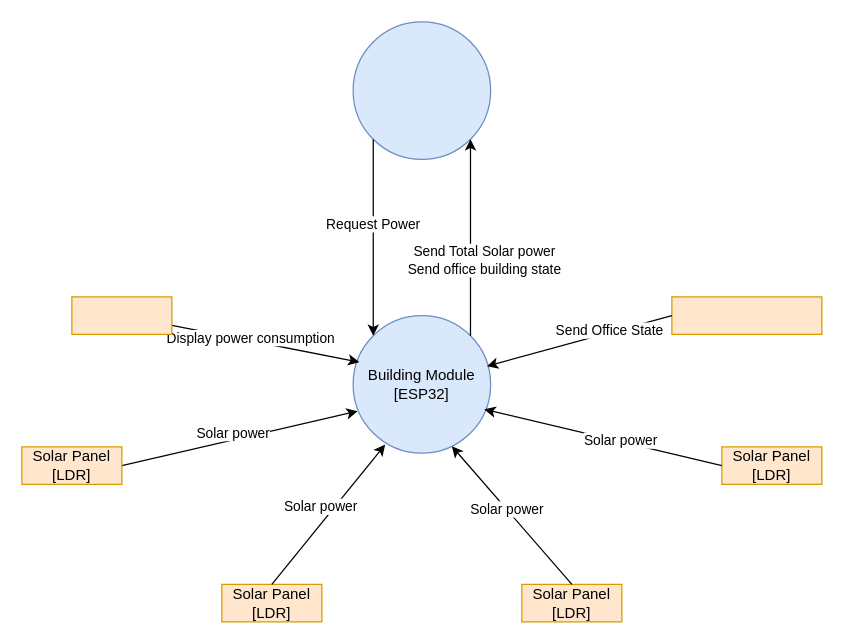
This 844x644 diagram has some shape labels left out. The shapes that lost their labels are listed below. From the top down, each one's box as (x1, y1, x2, y2) in pixels, then its label:
(352, 21, 491, 159): Power Load Balancer Module [ESP32]
(71, 296, 172, 334): LCD Screen
(671, 296, 822, 334): office Building state [Potentiometer]
